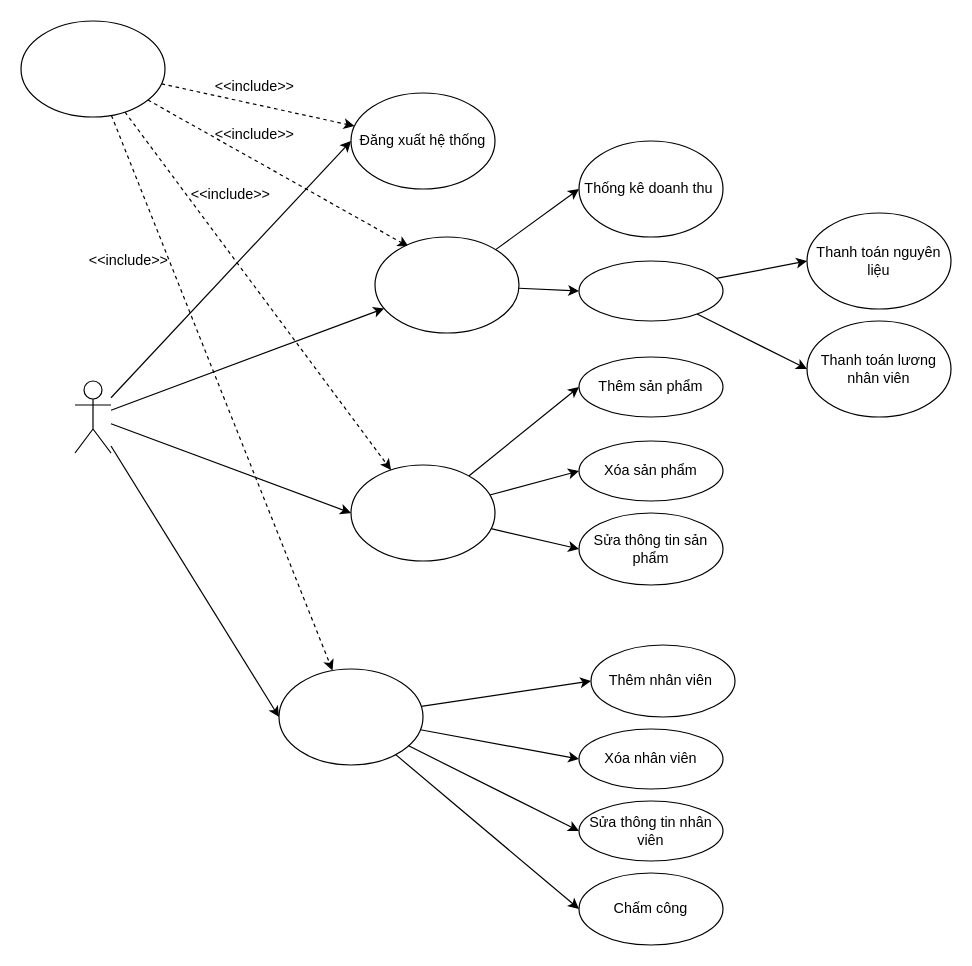
This 972x966 diagram has some shape labels left out. Each missing label, with the box of its shape:
Chi: (578, 260, 723, 321)
Chủ cửa hàng: (74, 380, 111, 453)
Quản lý nhân viên: (278, 668, 423, 765)
Quản lý sản phẩm: (350, 464, 495, 561)
Quản lý tài chính: (374, 236, 519, 333)
Đăng nhập hệ thống: (20, 20, 165, 117)
